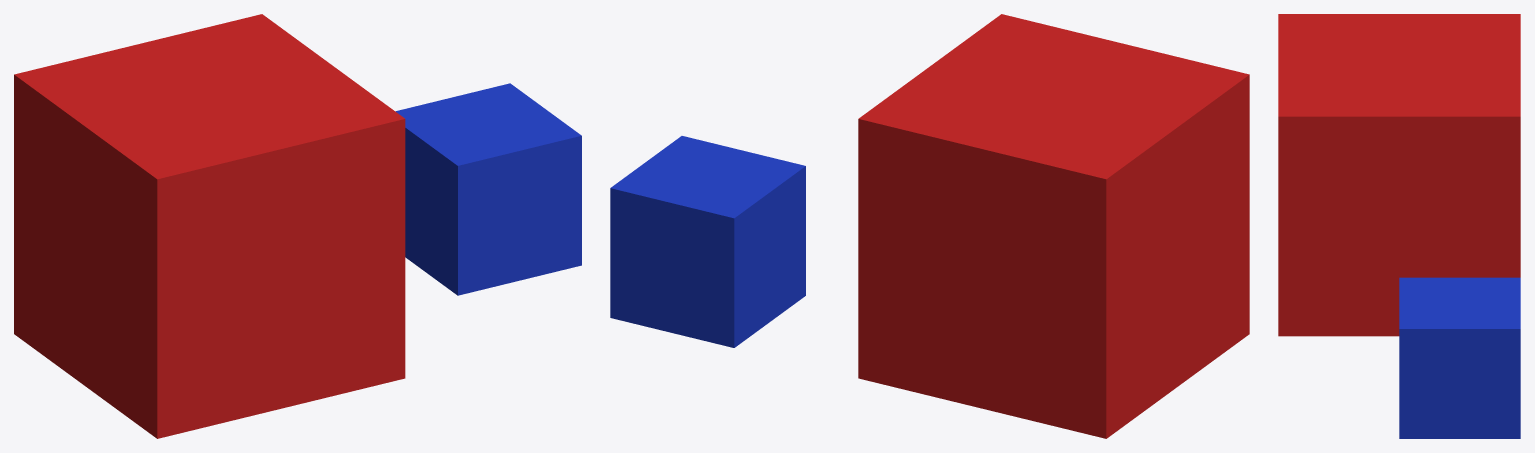
The model's file is pair.slide.glb.
3 renders of one model, left to right at view 1: azimuth 30°, elevation 25°; view 2: azimuth 150°, elevation 25°; view 3: azimuth 270°, elevation 25°, orthographic. The views are drawn at different scales.
Visible parts, largest first — view 1: base, rider; view 2: base, rider; view 3: base, rider.
Boxes of the visible parts, <box> form: base: <box>14,14,405,438</box>; rider: <box>395,83,581,295</box>; base: <box>858,14,1249,438</box>; rider: <box>610,136,805,347</box>; base: <box>1278,14,1520,336</box>; rider: <box>1399,277,1520,438</box>.
Bounding box in the file's own units: 0.04 × 0.02 × 0.02.
